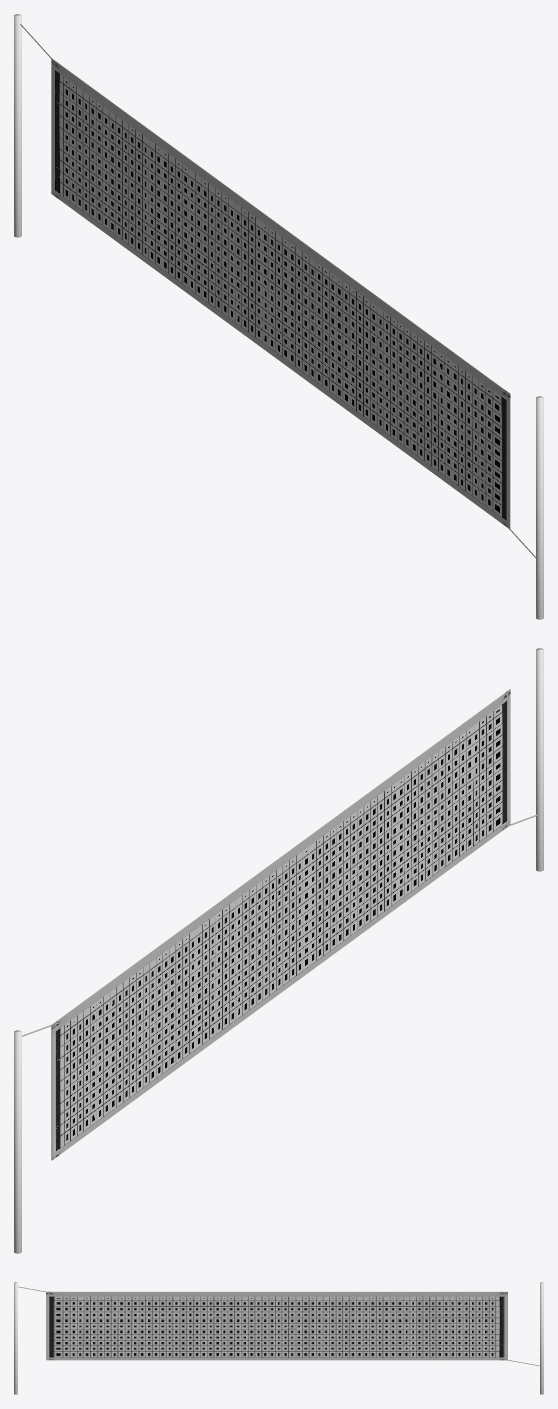
File: VolleyNet.glb
The picture shows the model from 3 angles, top to bottom: view 1: azimuth 30°, elevation 25°; view 2: azimuth 150°, elevation 25°; view 3: azimuth 270°, elevation 25°; orthographic projection. The views are drawn at different scales.
Visible parts, largest first — view 1: Cube, Cylinder; view 2: Cube, Cylinder; view 3: Cube, Cylinder.
Boxes of the visible parts, x1,y1,x2,y2 form: Cube: (51, 58, 510, 529); Cylinder: (14, 14, 543, 619); Cube: (51, 689, 510, 1160); Cylinder: (14, 648, 543, 1253); Cube: (46, 1291, 507, 1360); Cylinder: (14, 1282, 543, 1394).
Size of the model in its own units: 0.1982 by 6 by 26.
Materials: 1 (1 with a texture image).
